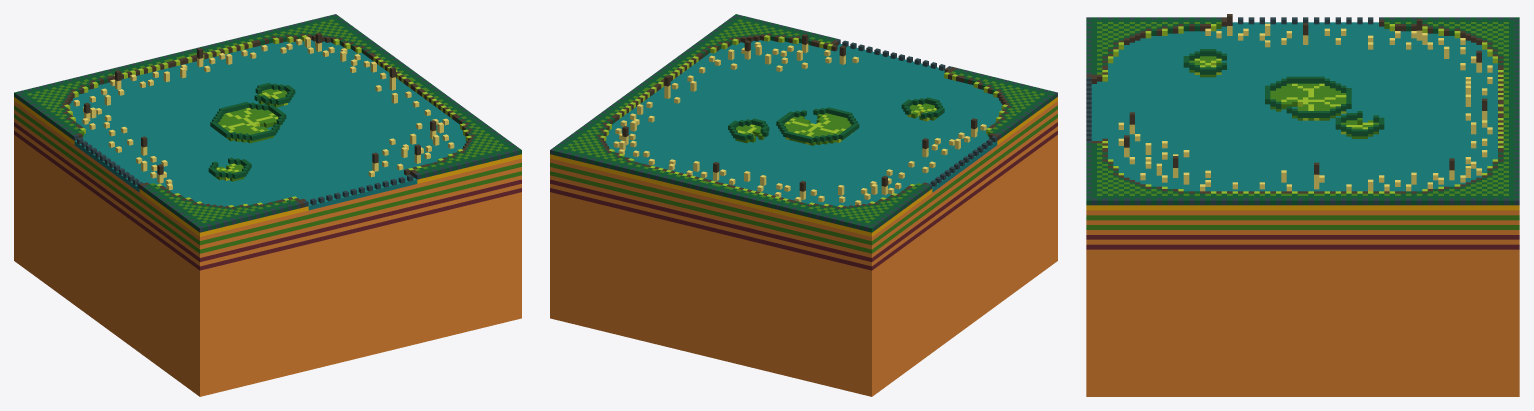
The model's file is swamp_3_tile.obj.
The picture shows the model from 3 angles, left to right: view 1: azimuth 30°, elevation 25°; view 2: azimuth 150°, elevation 25°; view 3: azimuth 270°, elevation 25°; orthographic projection. The views are drawn at different scales.
Size of the model in its own units: 8 by 4.4 by 8.
1 material, 1 textured.
